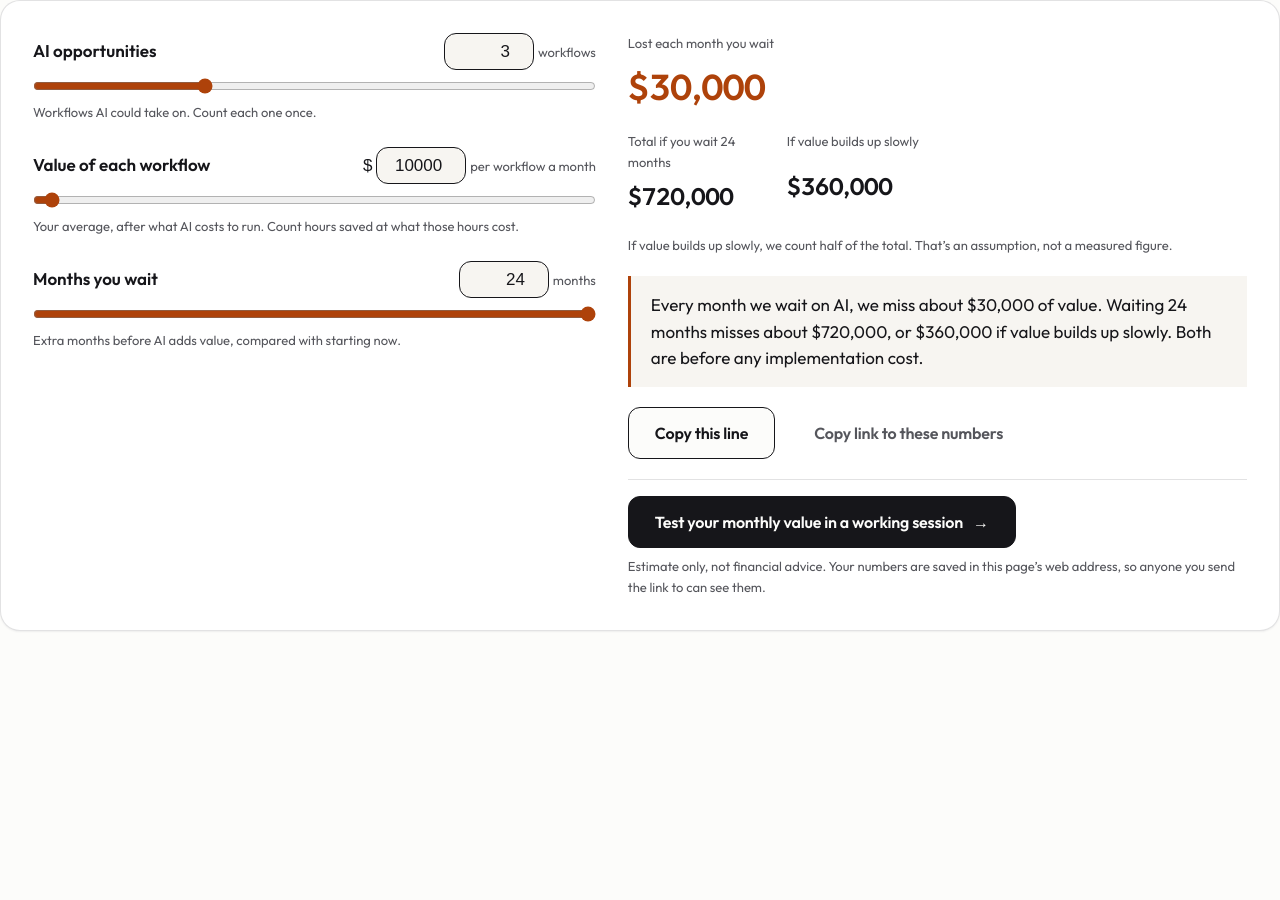
Scenario: CostOfDelayCalculator › shows the kept value, not the typed one, when an entry snaps back to it
Replace the text in the number field named "Months you wait, in months" with "99" at (504, 280), box x1=459 y1=261 x2=549 y2=298
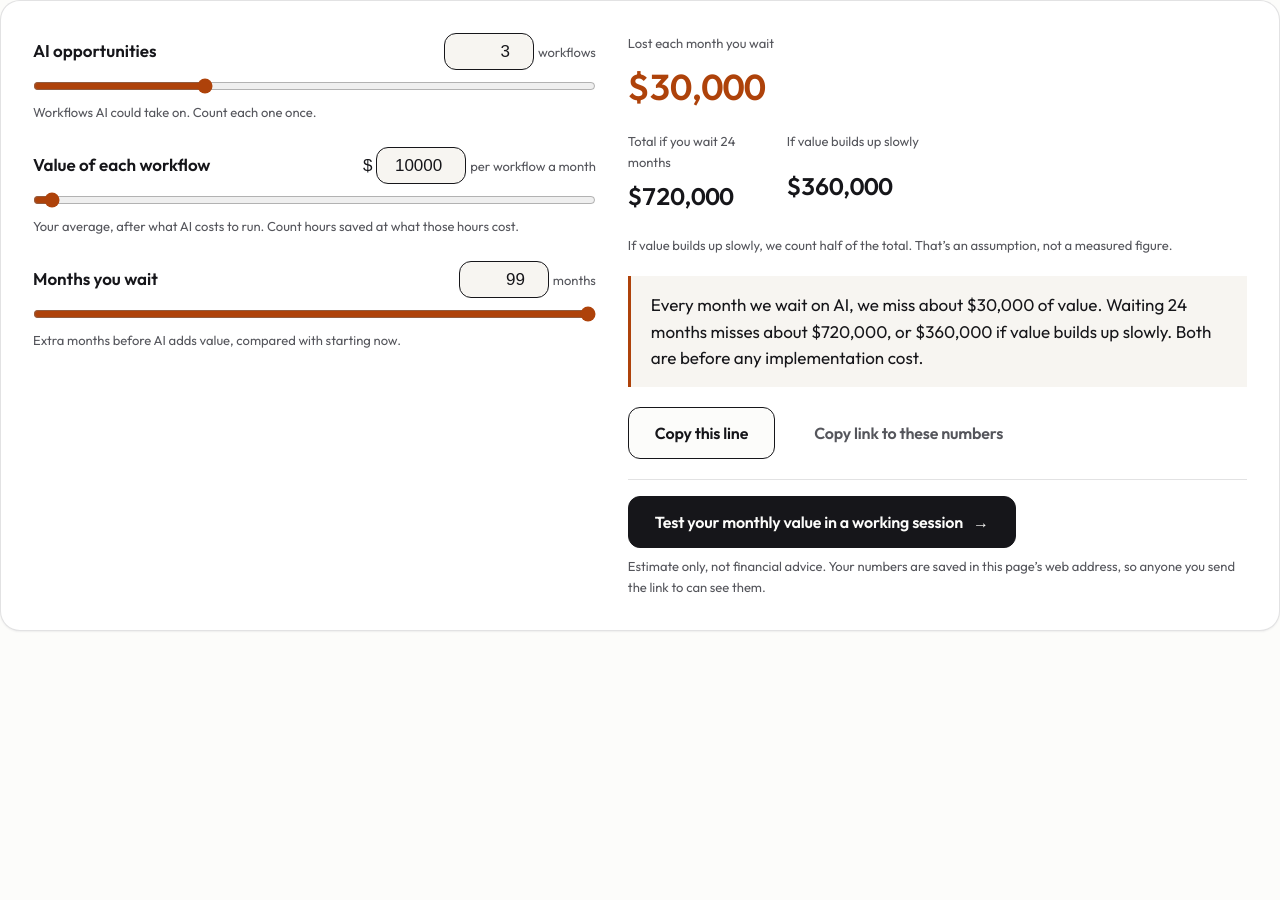
Leave the number field named "Months you wait, in months", box x1=459 y1=261 x2=549 y2=298
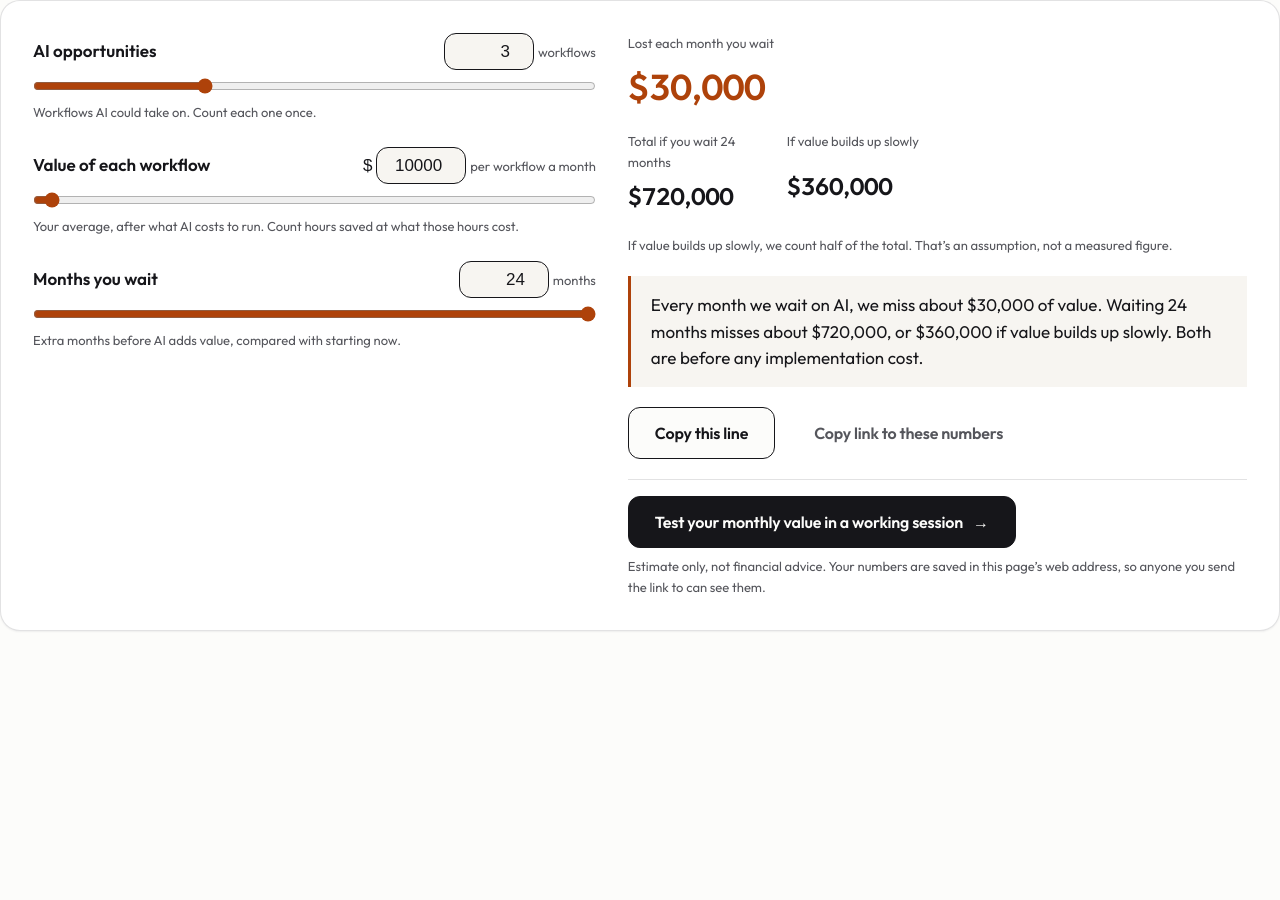
Expected: the number field named "Months you wait, in months" holds "24", x1=459 y1=261 x2=549 y2=298
